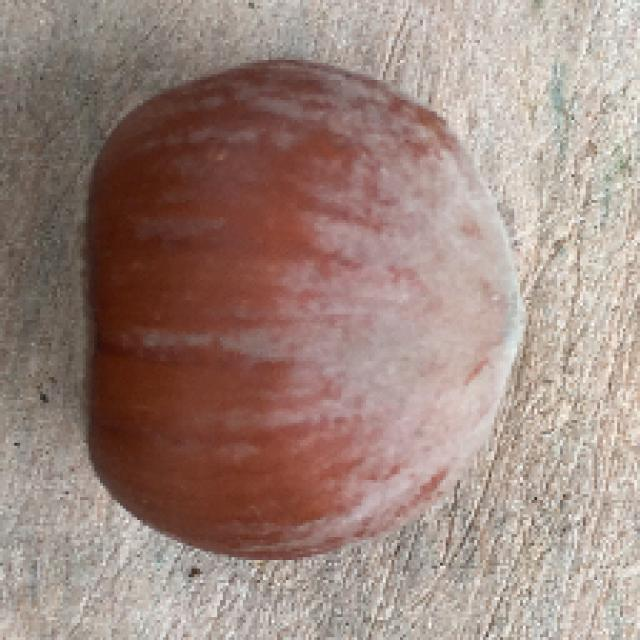QualityHazelnut: (78, 54, 526, 561)
